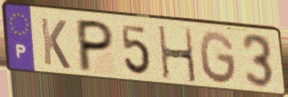3: (242, 32, 275, 92)
5: (120, 24, 153, 77)
G: (198, 30, 239, 87)
H: (156, 25, 199, 86)
K: (38, 15, 72, 71)
P: (77, 17, 116, 74)
